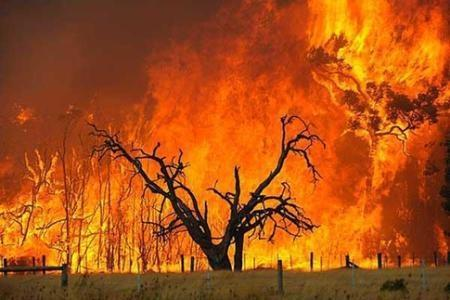fire: (3, 2, 443, 272)
